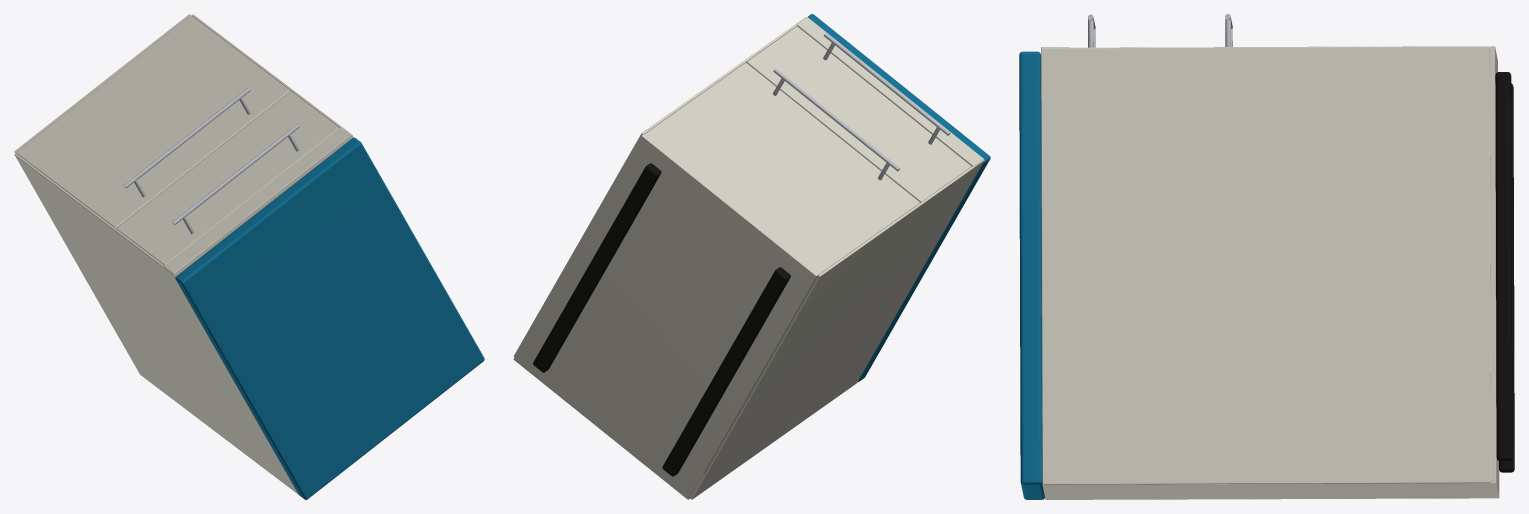
File: cabinet-1077.glb
3 views of the same model, side by side, from view 1: azimuth 30°, elevation 25°; view 2: azimuth 150°, elevation 25°; view 3: azimuth 270°, elevation 25° (orthographic). The views are drawn at different scales.
Parts seen in each view (by area): view 1: HCRG_Cabinet1077_SourceFit03_blue_cushion_002, HCRG_Cabinet1077_SourceFit03_lower_drawer_front_002, HCRG_Cabinet1077_SourceFit03_side_1_002, HCRG_Cabinet1077_SourceFit03_upper_drawer_front_002, HCRG_Cabinet1077_SourceFit03_front_header_002, HCRG_Cabinet1077_SourceFit03_upper_drawer_handle_bar_002, HCRG_Cabinet1077_SourceFit03_lower_drawer_handle_bar_002, HCRG_Cabinet1077_SourceFit03_bottom_panel_002, HCRG_Cabinet1077_SourceFit03_top_panel_002, HCRG_Cabinet1077_SourceFit03_side__1_002; view 2: HCRG_Cabinet1077_SourceFit03_bottom_panel_002, HCRG_Cabinet1077_SourceFit03_lower_drawer_front_002, HCRG_Cabinet1077_SourceFit03_side_1_002, HCRG_Cabinet1077_SourceFit03_upper_drawer_front_002, HCRG_Cabinet1077_SourceFit03_estimated_base_rail__1_002, HCRG_Cabinet1077_SourceFit03_estimated_base_rail_1_002, HCRG_Cabinet1077_SourceFit03_blue_cushion_002, HCRG_Cabinet1077_SourceFit03_front_header_002, HCRG_Cabinet1077_SourceFit03_side__1_002, HCRG_Cabinet1077_SourceFit03_upper_drawer_handle_bar_002, HCRG_Cabinet1077_SourceFit03_lower_drawer_handle_bar_002; view 3: HCRG_Cabinet1077_SourceFit03_side__1_002, HCRG_Cabinet1077_SourceFit03_blue_cushion_002, HCRG_Cabinet1077_SourceFit03_rear_panel_002, HCRG_Cabinet1077_SourceFit03_estimated_base_rail__1_002, HCRG_Cabinet1077_SourceFit03_bottom_panel_002, HCRG_Cabinet1077_SourceFit03_estimated_base_rail_1_002.
Part boxes in pixels (left/top/right/bottom): HCRG_Cabinet1077_SourceFit03_blue_cushion_002: left=175, top=137, right=484, bottom=499; HCRG_Cabinet1077_SourceFit03_lower_drawer_front_002: left=16, top=16, right=290, bottom=228; HCRG_Cabinet1077_SourceFit03_side_1_002: left=14, top=153, right=298, bottom=494; HCRG_Cabinet1077_SourceFit03_upper_drawer_front_002: left=116, top=91, right=339, bottom=265; HCRG_Cabinet1077_SourceFit03_front_header_002: left=164, top=127, right=352, bottom=276; HCRG_Cabinet1077_SourceFit03_upper_drawer_handle_bar_002: left=172, top=124, right=299, bottom=225; HCRG_Cabinet1077_SourceFit03_lower_drawer_handle_bar_002: left=123, top=87, right=250, bottom=188; HCRG_Cabinet1077_SourceFit03_bottom_panel_002: left=14, top=14, right=191, bottom=153; HCRG_Cabinet1077_SourceFit03_top_panel_002: left=176, top=137, right=350, bottom=275; HCRG_Cabinet1077_SourceFit03_side__1_002: left=191, top=14, right=353, bottom=137; HCRG_Cabinet1077_SourceFit03_bottom_panel_002: left=513, top=134, right=817, bottom=499; HCRG_Cabinet1077_SourceFit03_lower_drawer_front_002: left=644, top=62, right=919, bottom=278; HCRG_Cabinet1077_SourceFit03_side_1_002: left=690, top=160, right=984, bottom=499; HCRG_Cabinet1077_SourceFit03_upper_drawer_front_002: left=746, top=26, right=971, bottom=202; HCRG_Cabinet1077_SourceFit03_estimated_base_rail__1_002: left=533, top=163, right=661, bottom=372; HCRG_Cabinet1077_SourceFit03_estimated_base_rail_1_002: left=662, top=267, right=790, bottom=476; HCRG_Cabinet1077_SourceFit03_blue_cushion_002: left=808, top=14, right=990, bottom=382; HCRG_Cabinet1077_SourceFit03_front_header_002: left=797, top=17, right=983, bottom=166; HCRG_Cabinet1077_SourceFit03_side__1_002: left=513, top=17, right=806, bottom=356; HCRG_Cabinet1077_SourceFit03_upper_drawer_handle_bar_002: left=823, top=33, right=950, bottom=135; HCRG_Cabinet1077_SourceFit03_lower_drawer_handle_bar_002: left=773, top=68, right=899, bottom=171; HCRG_Cabinet1077_SourceFit03_side__1_002: left=1041, top=46, right=1491, bottom=484; HCRG_Cabinet1077_SourceFit03_blue_cushion_002: left=1019, top=51, right=1044, bottom=499; HCRG_Cabinet1077_SourceFit03_rear_panel_002: left=1042, top=482, right=1493, bottom=499; HCRG_Cabinet1077_SourceFit03_estimated_base_rail__1_002: left=1495, top=72, right=1512, bottom=461; HCRG_Cabinet1077_SourceFit03_bottom_panel_002: left=1490, top=46, right=1499, bottom=498; HCRG_Cabinet1077_SourceFit03_estimated_base_rail_1_002: left=1499, top=83, right=1514, bottom=472.
Size of the model in its own units: 0.5651 by 0.628 by 0.5687.
